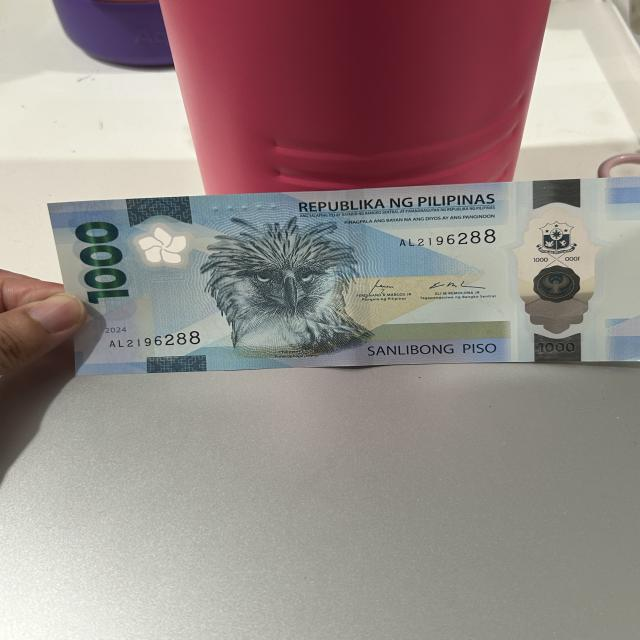clear_window: (512, 199, 612, 331)
eagle: (206, 210, 370, 356)
sampaguita: (135, 226, 190, 265)
